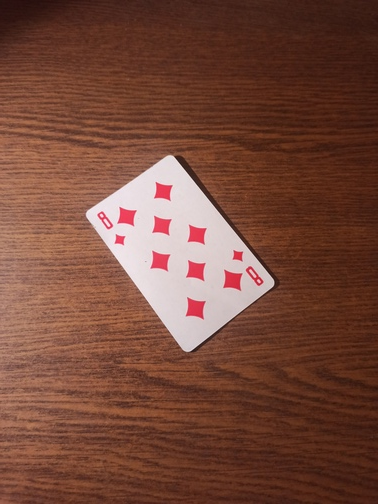eightdiamonds: (84, 155, 274, 351)
